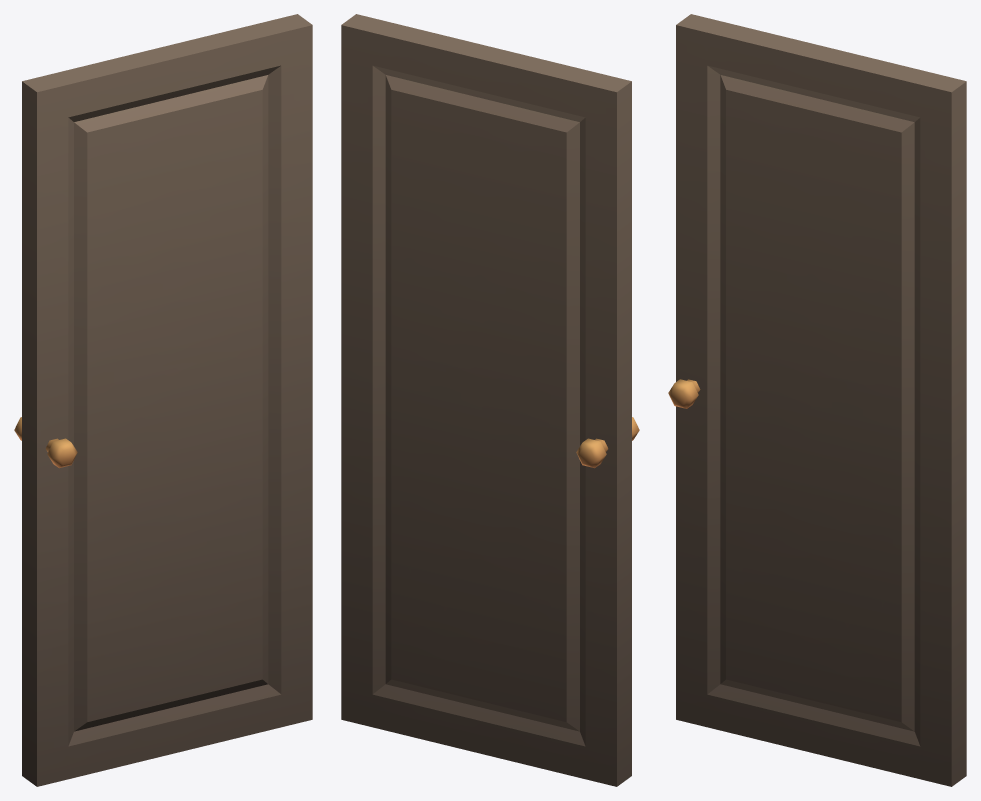
The model's file is door.fbx.
3 renders of one model, left to right at view 1: azimuth 30°, elevation 25°; view 2: azimuth 150°, elevation 25°; view 3: azimuth 330°, elevation 25°, orthographic.
Visible parts, largest first — view 1: door; view 2: door; view 3: door.
Part boxes in pixels (box(x1,y1,x2,y2)): door: box(14, 14, 312, 786); door: box(341, 14, 639, 786); door: box(668, 14, 966, 786).
Size of the model in its own units: 88.02 by 212 by 23.62.
